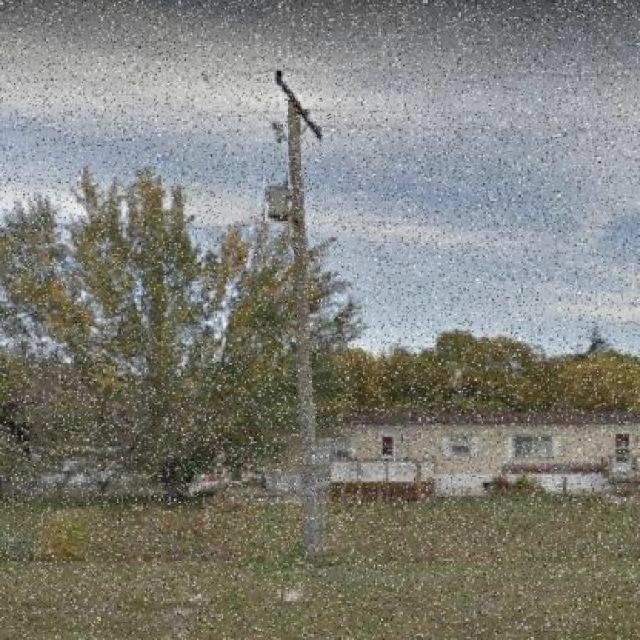crossarm: (276, 72, 323, 136)
pole: (289, 101, 324, 564)
transformer: (266, 184, 292, 224)
